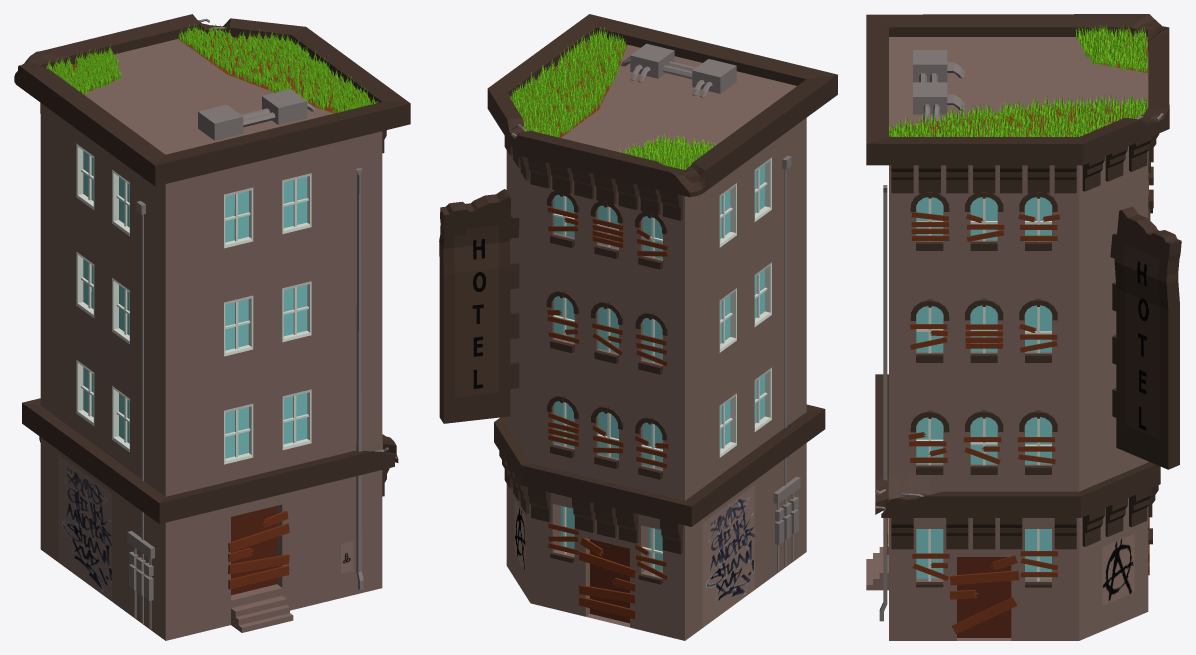
The model's file is Building_02_destroy.fbx.
3 renders of one model, left to right at view 1: azimuth 30°, elevation 25°; view 2: azimuth 150°, elevation 25°; view 3: azimuth 270°, elevation 25°, orthographic. The views are drawn at different scales.
Visible parts, largest first — view 1: Building02, Dirt_plan; view 2: Building02, Dirt_plan; view 3: Building02, Dirt_plan.
Part boxes in pixels (bbox=[...]): Building02: bbox=[14, 14, 410, 640]; Dirt_plan: bbox=[178, 34, 359, 113]; Building02: bbox=[439, 14, 837, 640]; Dirt_plan: bbox=[511, 39, 627, 137]; Building02: bbox=[866, 14, 1181, 640]; Dirt_plan: bbox=[890, 106, 1141, 136].
Size of the model in its own units: 608 by 1082 by 604.
